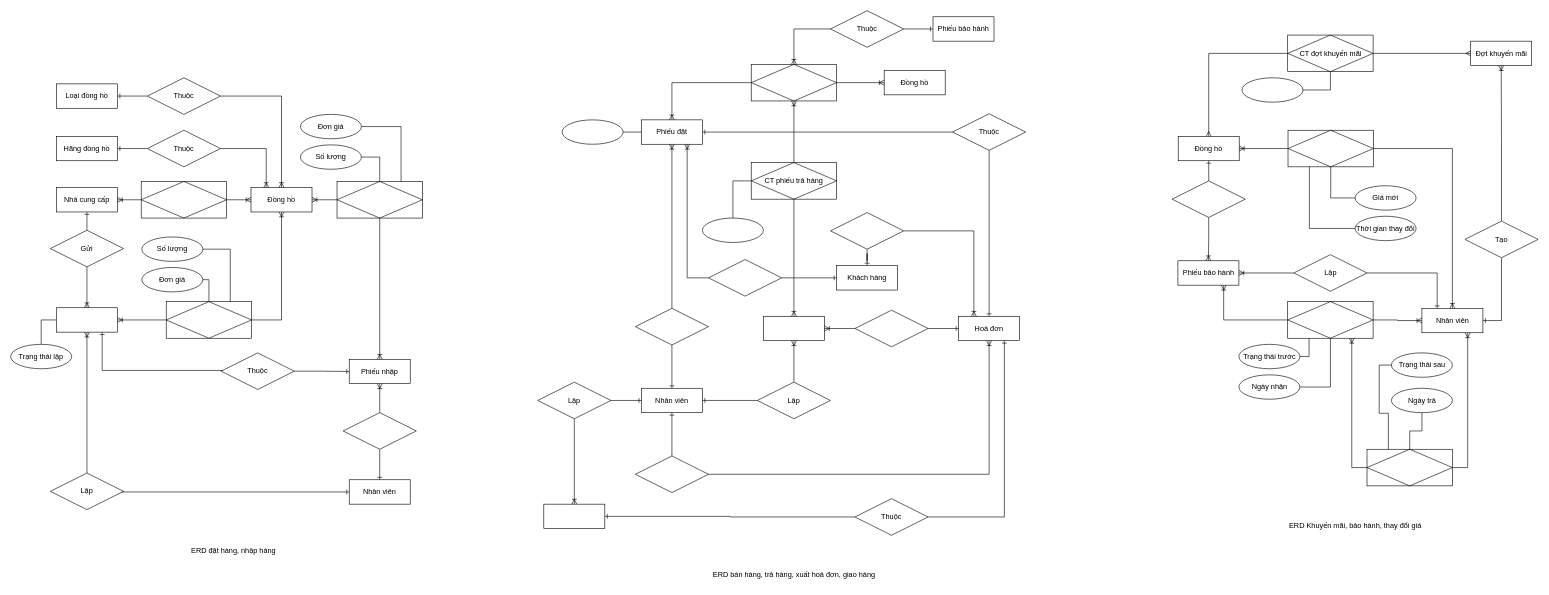
This 1549x595 diagram has some shape labels left out. The shapes that lost their labels are listed below. From the top down, each one's box as (x1, y1, x2, y2) in pixels, then its label:
(751, 64, 837, 101): CT phiếu đặt
(1241, 77, 1303, 102): Phần trăm KM
(562, 119, 623, 144): Trạng thái
(1287, 130, 1373, 167): CT thay đổi giá
(141, 181, 227, 218): CT cung cấp
(336, 181, 422, 218): CT phiếu nhập
(1172, 180, 1245, 217): Bảo hành
(702, 217, 763, 242): Số lượng trả
(830, 212, 904, 249): Sở hữu
(708, 259, 782, 296): Đặt online
(56, 307, 117, 332): Đơn đặt hàng
(166, 301, 252, 338): CT đơn đặt hàng
(635, 308, 709, 345): Duyệt
(763, 316, 824, 341): Phiếu trả hàng
(854, 310, 928, 347): Trả hàng
(1287, 301, 1373, 338): CT phiếu nhận bảo hành
(343, 412, 416, 449): Nhập hàng
(635, 455, 709, 493): Duyệt & In
(1366, 449, 1452, 486): CT phiếu trả bảo hành
(543, 504, 605, 529): Phiếu giao hàng
